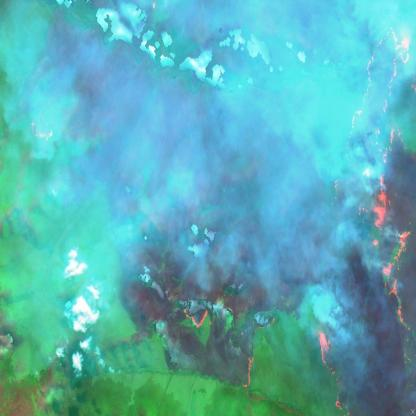fire: (314, 0, 416, 416), (177, 290, 218, 346), (237, 344, 262, 394)
